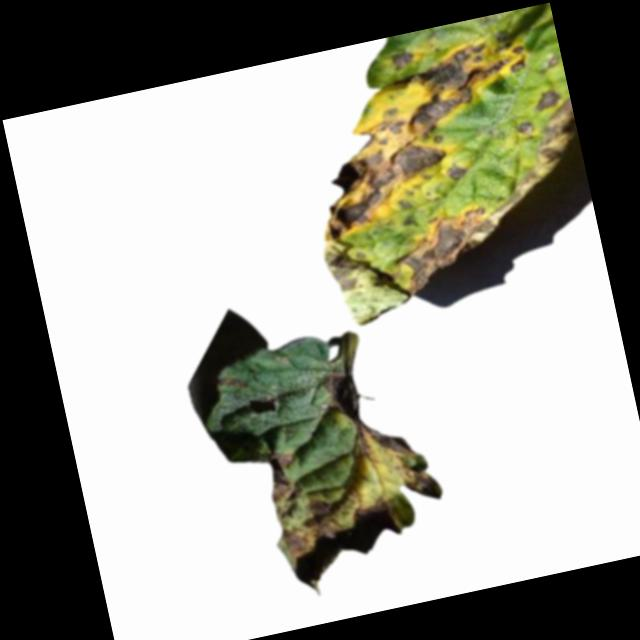Early_blight: (284, 16, 606, 330), (241, 357, 451, 602), (218, 371, 249, 391)
